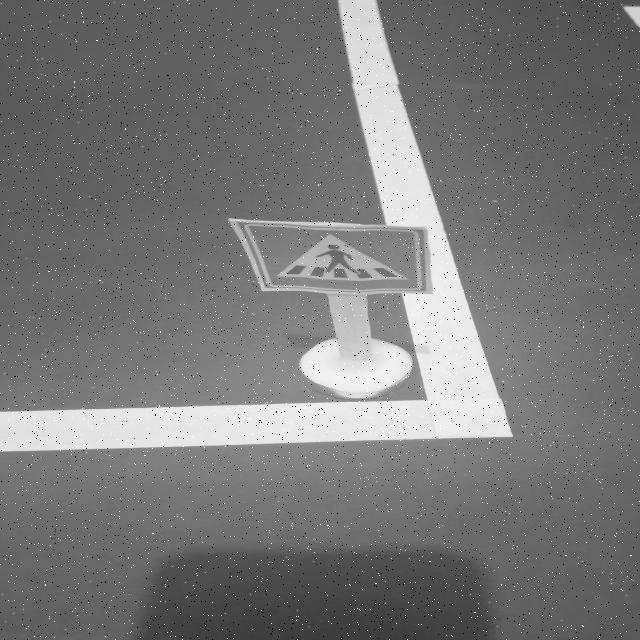Rambu Penyebrangan: (254, 226, 427, 293)
